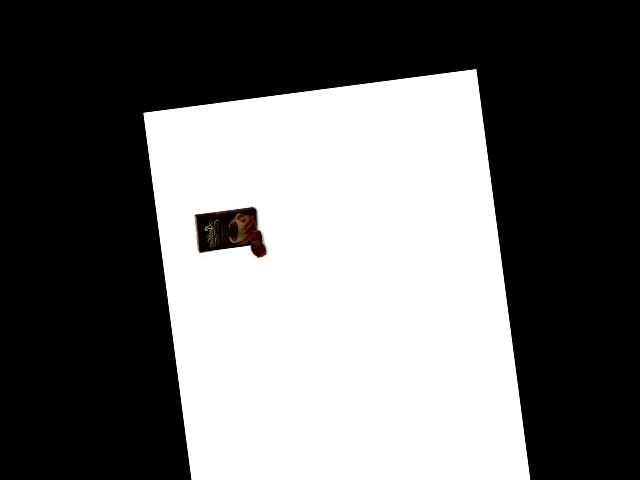chocolate: (191, 203, 263, 258)
